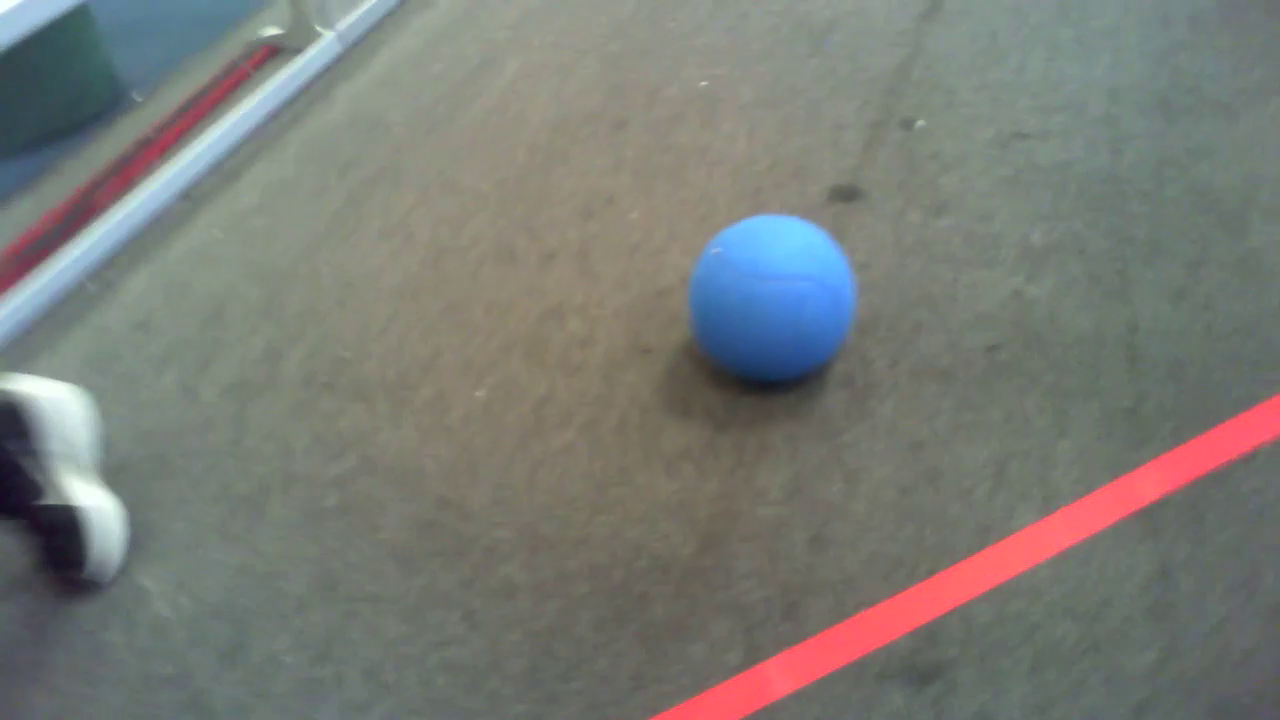blue_cargo: (694, 215, 853, 385)
